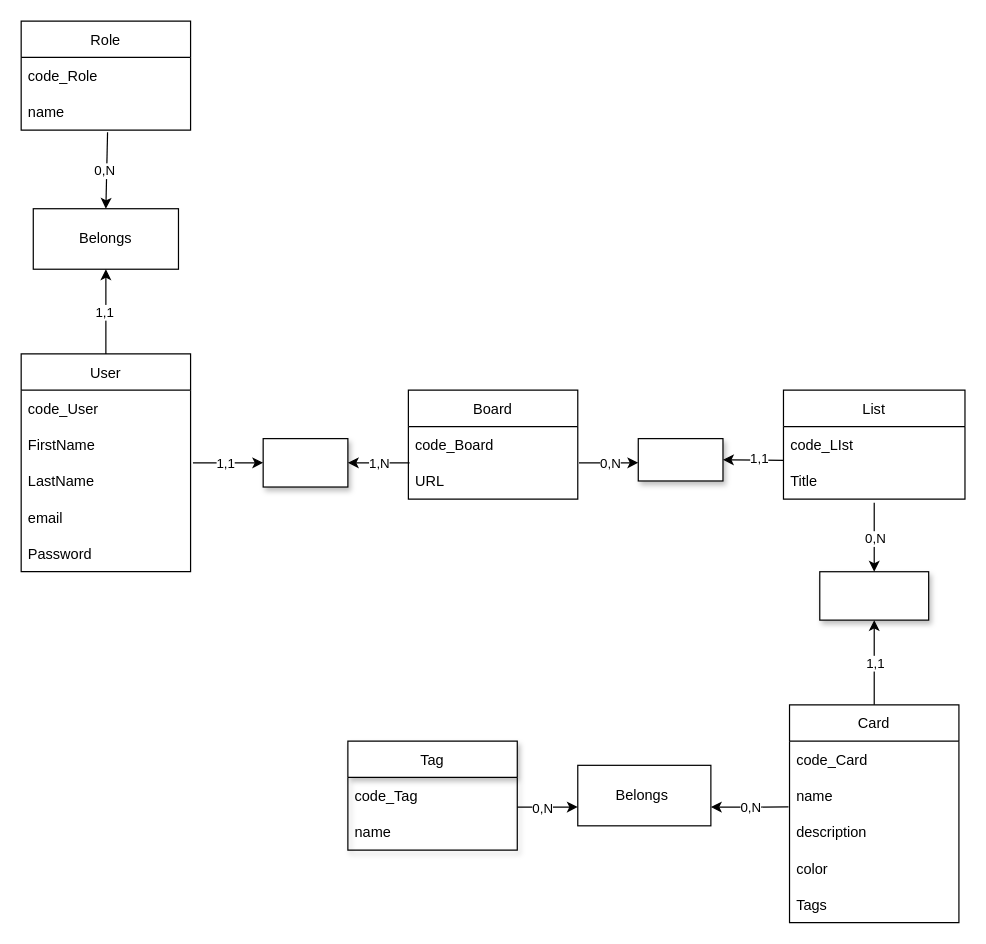
The diagram is 986 pixels wide and 944 high, and some of its shapes have lost their labels. Each missing label, with the centre of its shape:
"Compose" belongs at point 681,461.
"Contain" belongs at point 875,597.
"Create" belongs at point 306,464.
